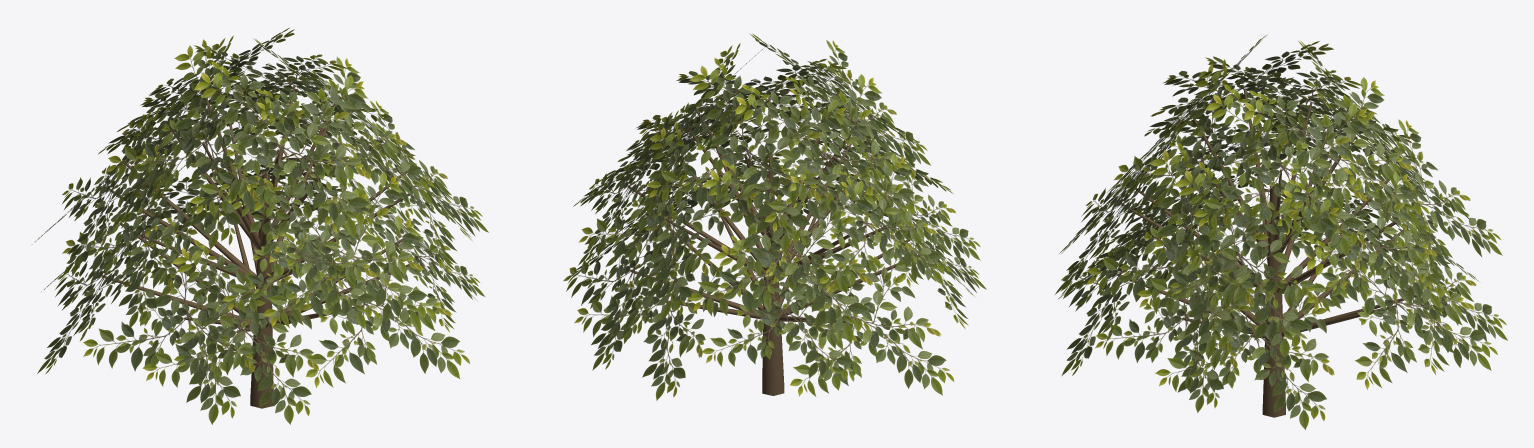
The model's file is botanical-tree.glb.
3 renders of one model, left to right at view 1: azimuth 30°, elevation 25°; view 2: azimuth 150°, elevation 25°; view 3: azimuth 270°, elevation 25°, orthographic. The views are drawn at different scales.
Parts seen in each view (by area): view 1: Atlas foliage, Atlas branches; view 2: Atlas foliage, Atlas branches; view 3: Atlas foliage, Atlas branches.
Part boxes in pixels (x1,y1,x2,y2): Atlas foliage: (31, 28, 488, 424); Atlas branches: (102, 85, 421, 408); Atlas foliage: (563, 33, 986, 400); Atlas branches: (627, 93, 920, 395); Atlas foliage: (1055, 34, 1507, 429); Atlas branches: (1117, 88, 1416, 417).
Bounding box in the file's own units: 1.65 × 1.31 × 1.63.
Materials: 2 (1 with a texture image).
